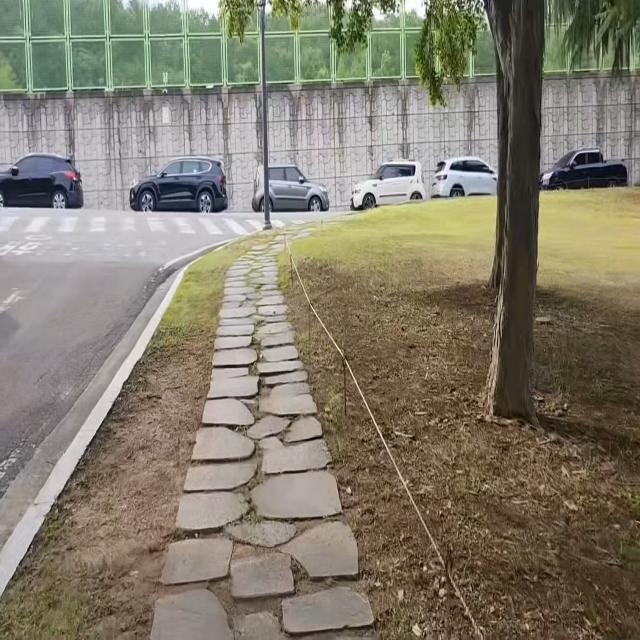obstacle: (128, 151, 232, 216), (0, 145, 85, 210), (347, 153, 429, 218), (248, 159, 331, 216)
road: (0, 206, 308, 553)
